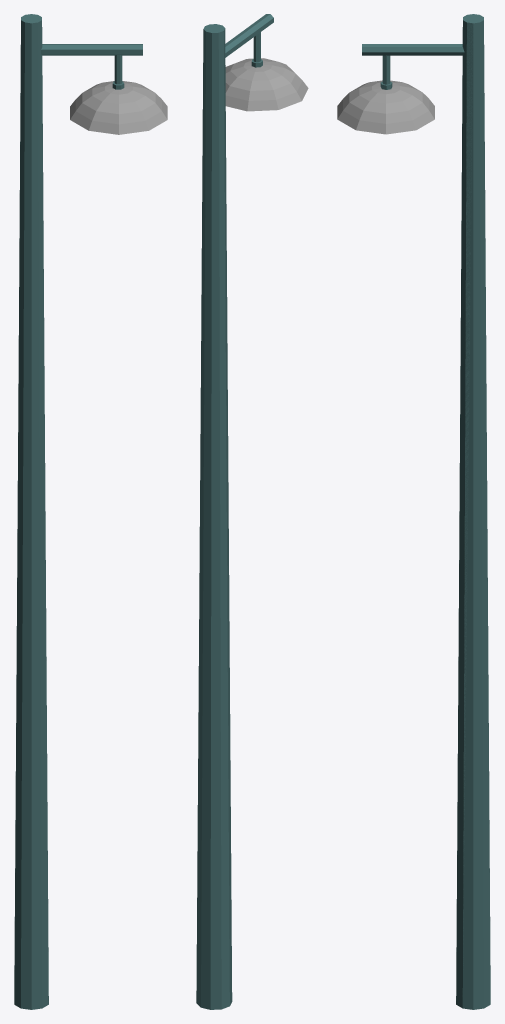
File: E_Parklamp.fbx
3 views of the same model, side by side, from view 1: azimuth 90°, elevation 25°; view 2: azimuth 150°, elevation 25°; view 3: azimuth 270°, elevation 25° (orthographic).
Parts seen in each view (by area): view 1: g_plamp2; view 2: g_plamp2; view 3: g_plamp2, mp_e_parklamp.
Boxes of the visible parts, x1=… form: g_plamp2: x1=14, y1=14, x2=167, y2=1009; g_plamp2: x1=196, y1=14, x2=308, y2=1009; g_plamp2: x1=337, y1=14, x2=490, y2=1009; mp_e_parklamp: x1=462, y1=14, x2=483, y2=996.
Bounding box in the file's own units: 39.47 × 417 × 58.95.
